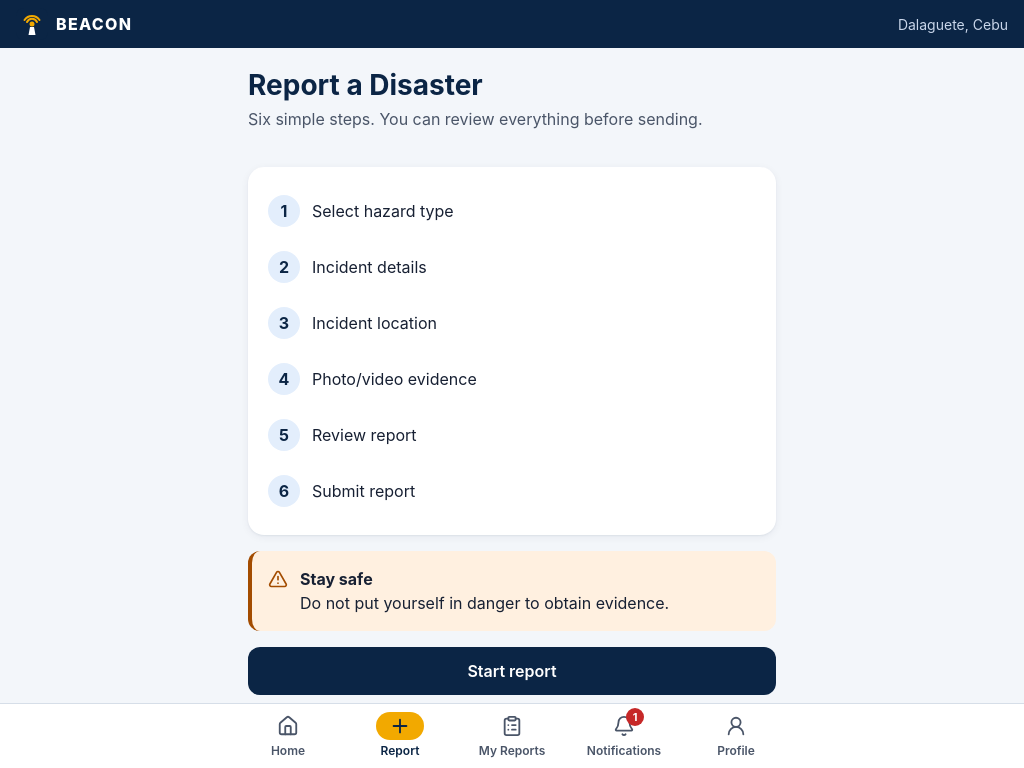
it: step 2: incident details › pre-fills the current Dalaguete date and time
Click the button "Start report": (512, 671) [248,647,776,695]
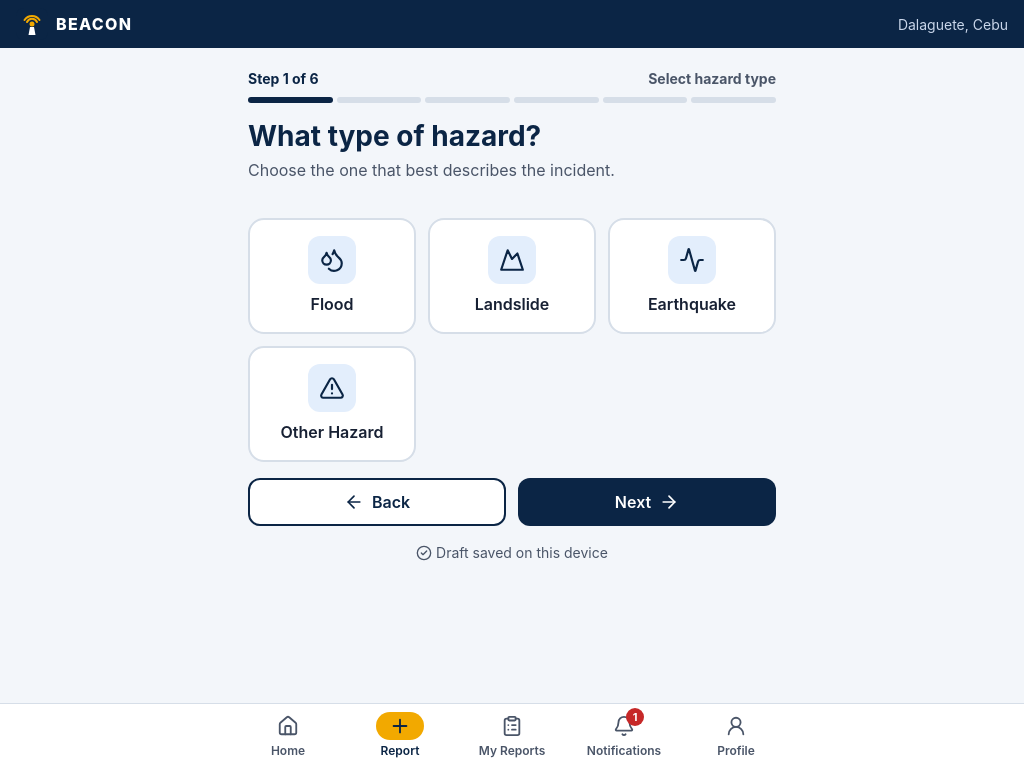
Expected: the heading "What type of hazard?" is shown, [248,119,541,153]
Click the radio button labelled "Landslide": (512, 276) [428,218,596,334]
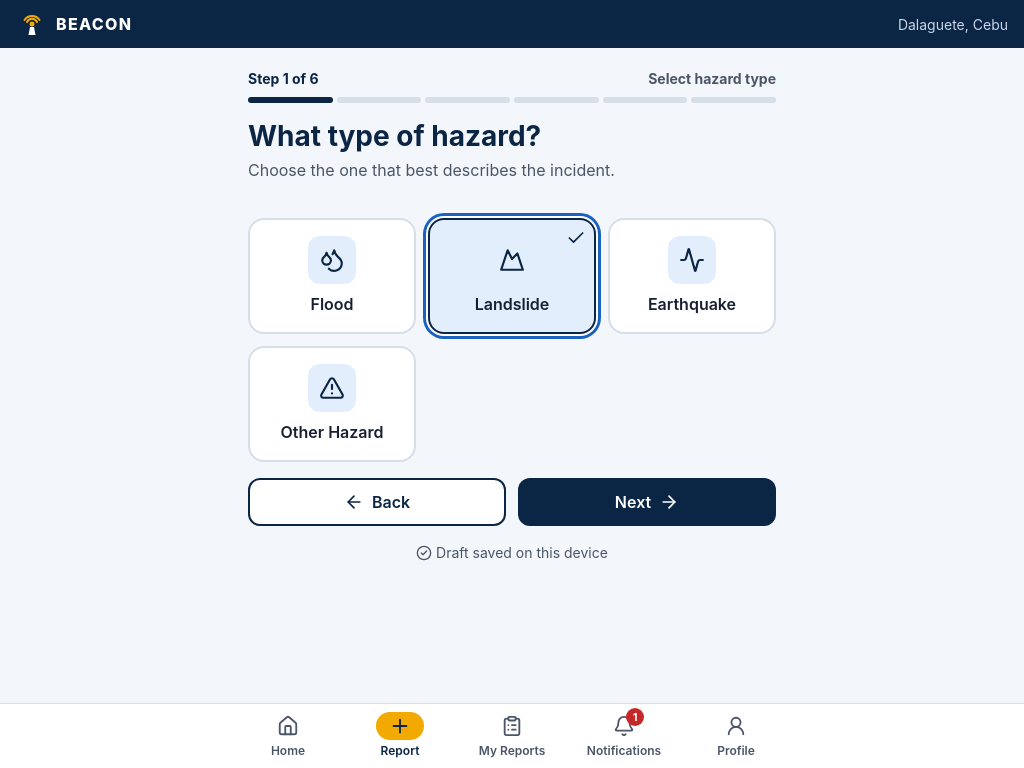
Click the button "Next": (647, 502) [518,478,776,526]
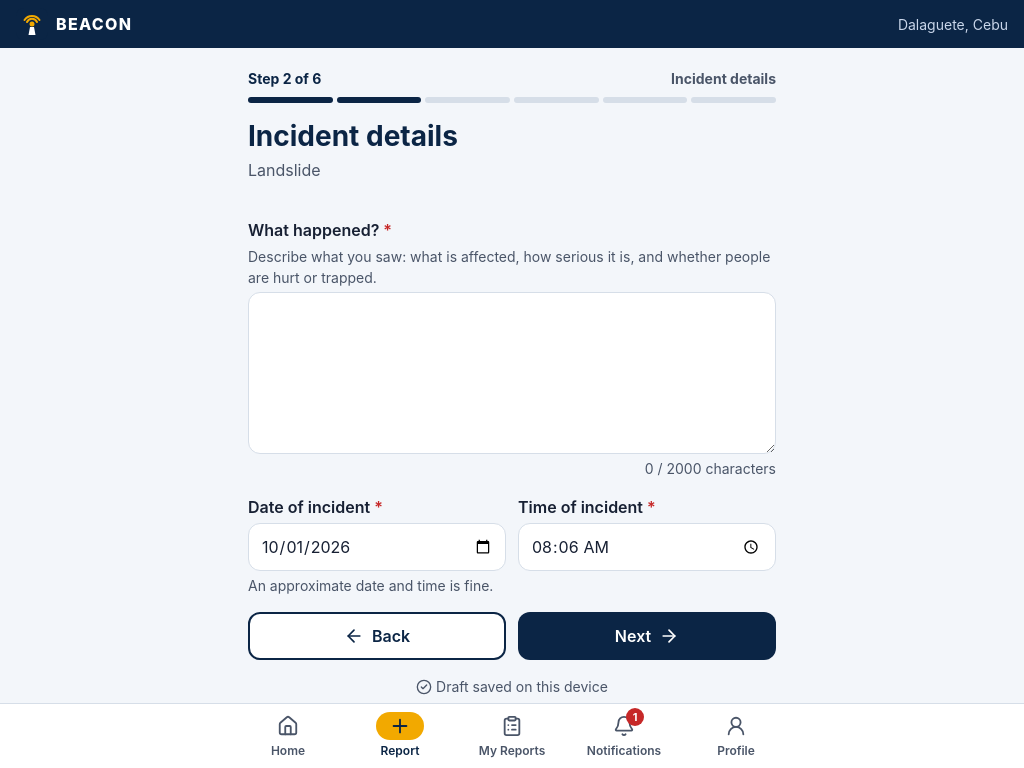
Expected: the heading "Incident details" is shown, [248,119,458,153]
